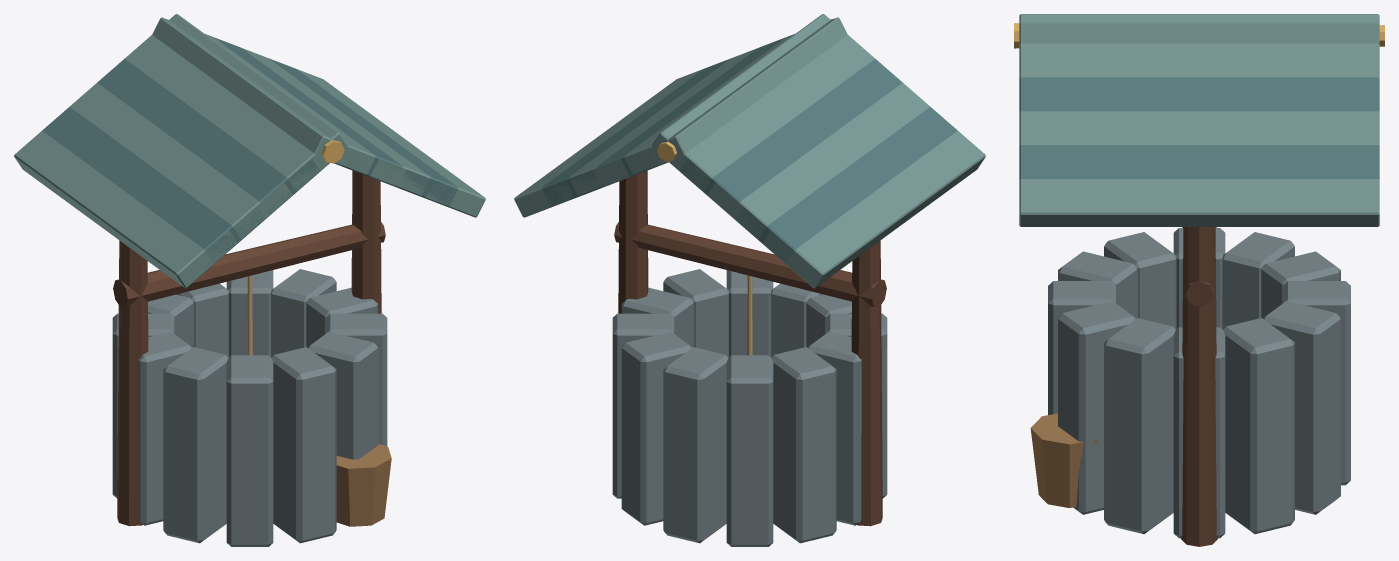
The model's file is well.glb.
3 views of the same model, side by side, from view 1: azimuth 30°, elevation 25°; view 2: azimuth 150°, elevation 25°; view 3: azimuth 270°, elevation 25° (orthographic). The views are drawn at different scales.
Parts seen in each view (by area): view 1: Geometry; view 2: Geometry; view 3: Geometry.
Part boxes in pixels (x1=…): Geometry: x1=14, y1=14, x2=485, y2=546; Geometry: x1=514, y1=14, x2=985, y2=546; Geometry: x1=1014, y1=14, x2=1384, y2=546.
Bounding box in the file's own units: 1.91 × 2.46 × 1.8.
